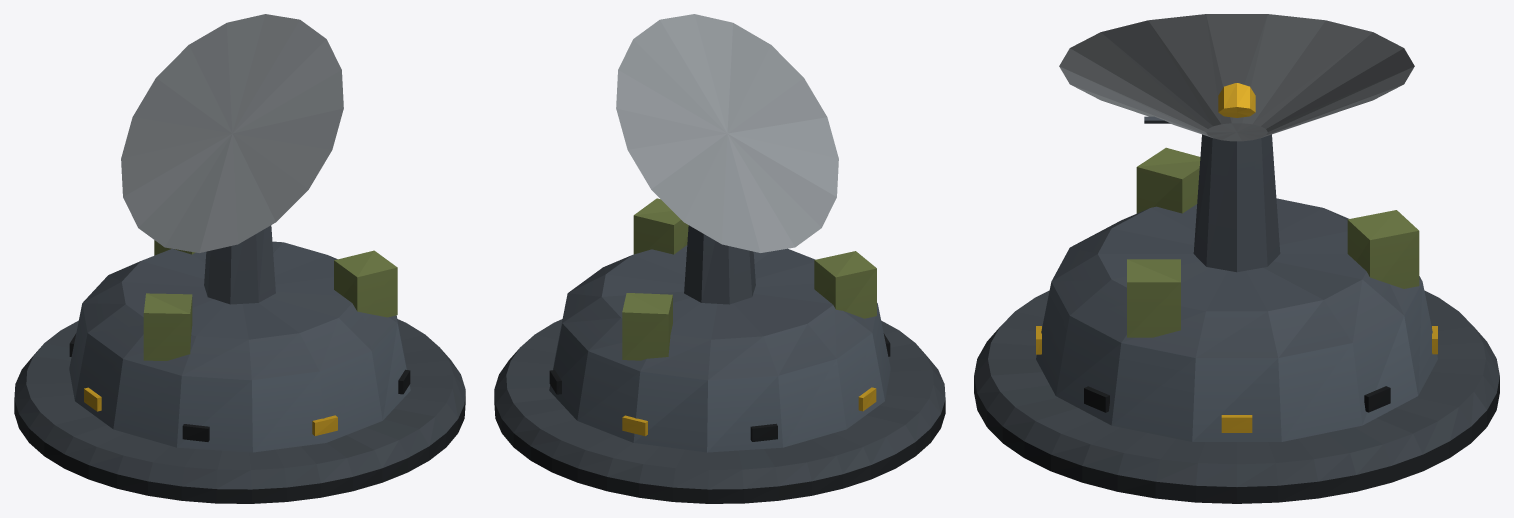
The model's file is outpost-dish.glb.
3 renders of one model, left to right at view 1: azimuth 30°, elevation 25°; view 2: azimuth 150°, elevation 25°; view 3: azimuth 270°, elevation 25°, orthographic. The views are drawn at different scales.
Bounding box in the file's own units: 3.4 × 3 × 3.4.
